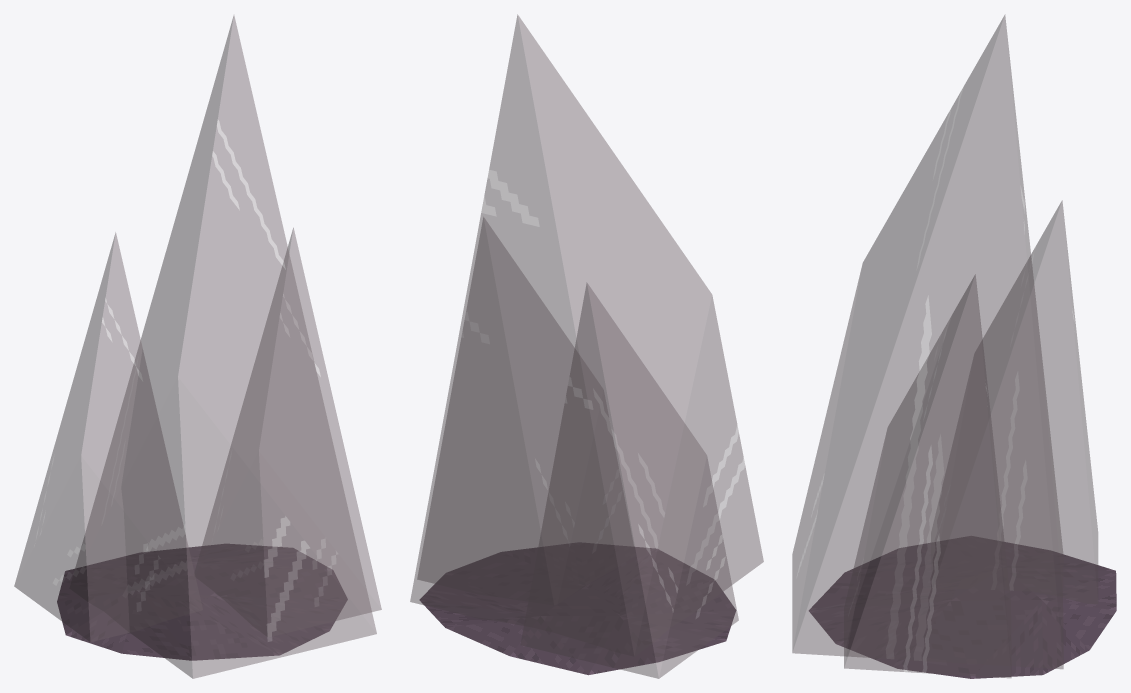
Rendered from f_portal_dungeon_reward_increaser_inert.glb.
3 renders of one model, left to right at view 1: azimuth 30°, elevation 25°; view 2: azimuth 150°, elevation 25°; view 3: azimuth 270°, elevation 25°, orthographic. The views are drawn at different scales.
Parts seen in each view (by area): view 1: block_jagged-crystal-spire (×3), block_portal-scar-base; view 2: block_jagged-crystal-spire (×3), block_portal-scar-base; view 3: block_jagged-crystal-spire (×3), block_portal-scar-base.
Boxes of the visible parts, left/top/right/bottom form: block_jagged-crystal-spire (×3): left=14, top=15, right=381, bottom=678; block_portal-scar-base: left=57, top=544, right=347, bottom=660; block_jagged-crystal-spire (×3): left=410, top=14, right=763, bottom=678; block_portal-scar-base: left=419, top=543, right=736, bottom=675; block_jagged-crystal-spire (×3): left=792, top=14, right=1098, bottom=678; block_portal-scar-base: left=809, top=536, right=1116, bottom=678.
Size of the model in its own units: 0.7029 by 1.37 by 0.6508.
Materials: 2 (2 with a texture image).
